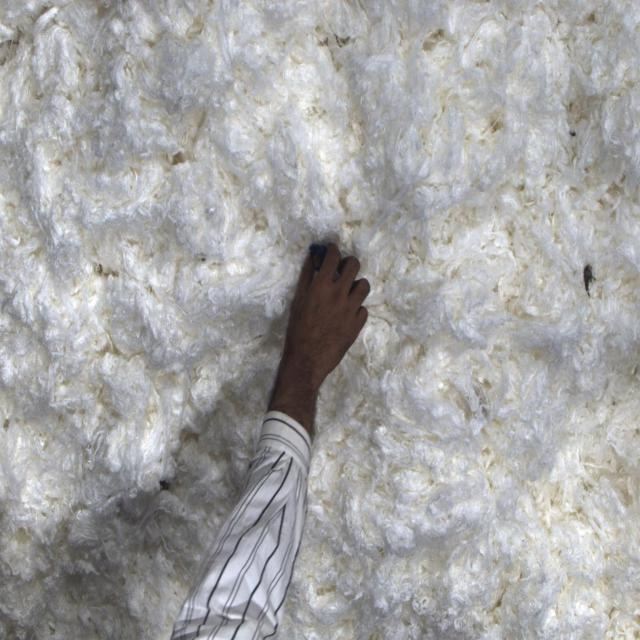dust: (142, 385, 317, 640), (574, 251, 604, 306)
